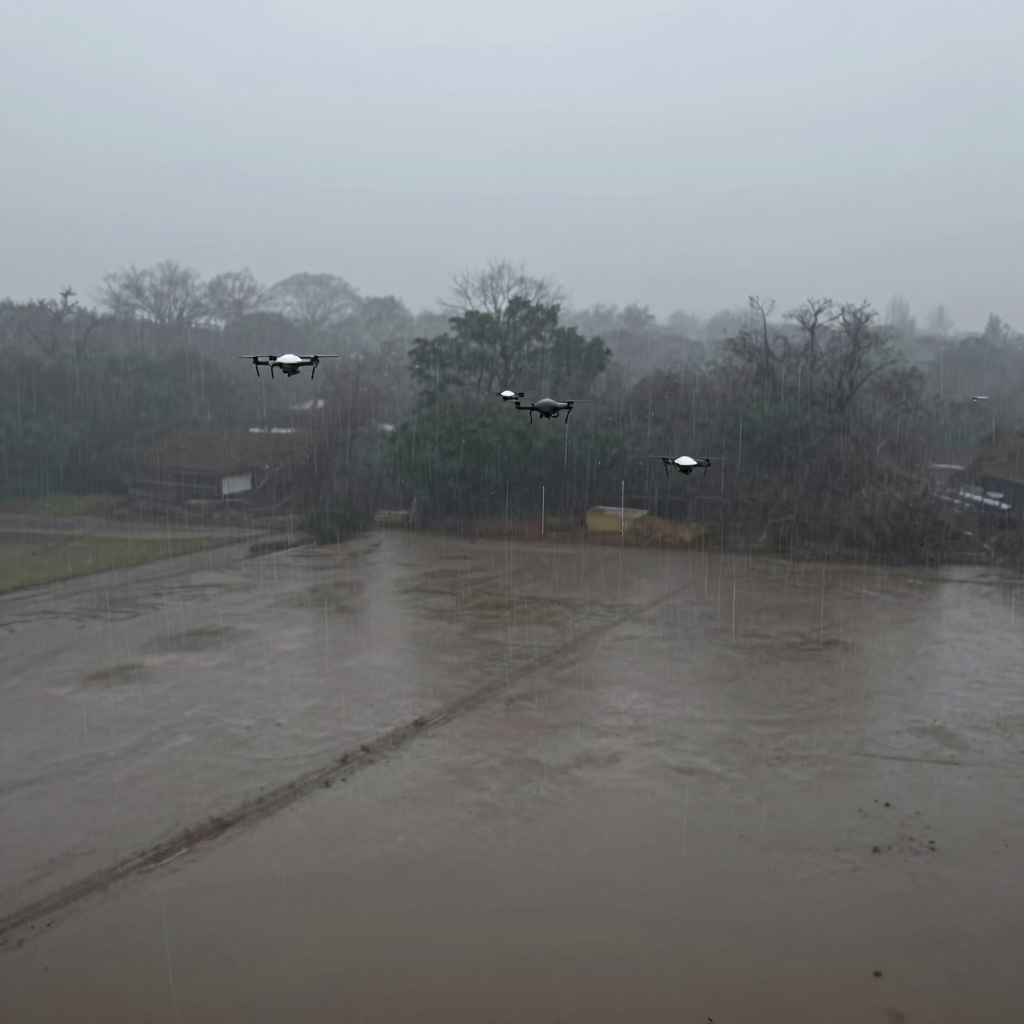drone: (492, 389, 575, 424), (238, 353, 339, 379), (650, 455, 712, 476)
